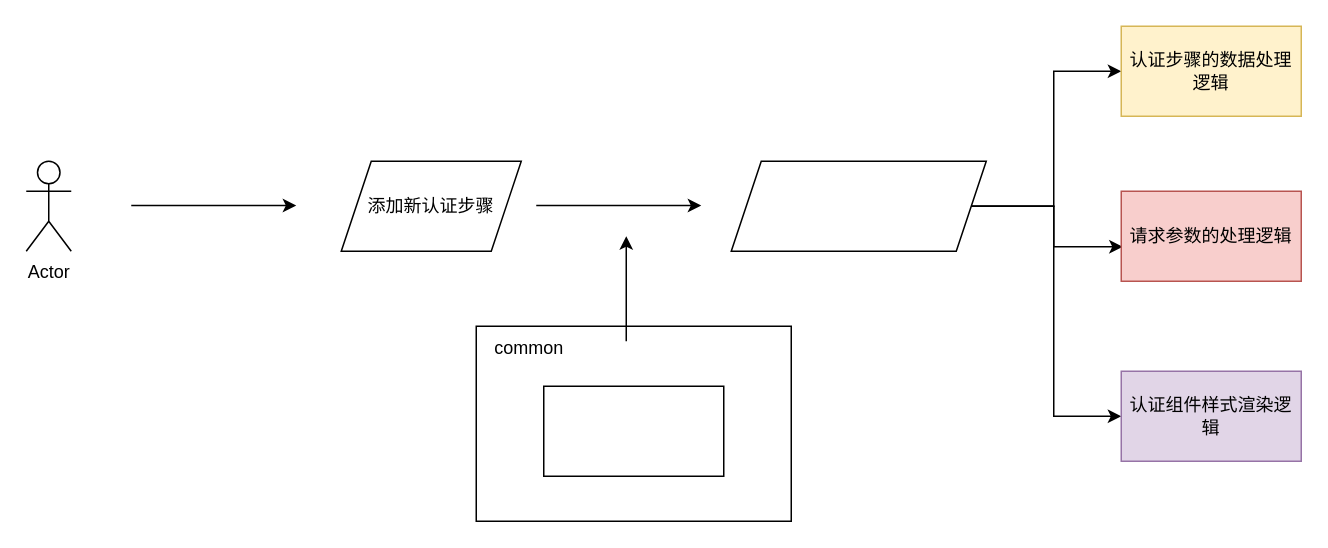
The diagram is 1328 pixels wide and 548 high, and some of its shapes have lost their labels. Each missing label, with the box of its shape:
verify-component: (542, 385, 724, 476)
针对新步骤的单元测试: (730, 160, 986, 251)
